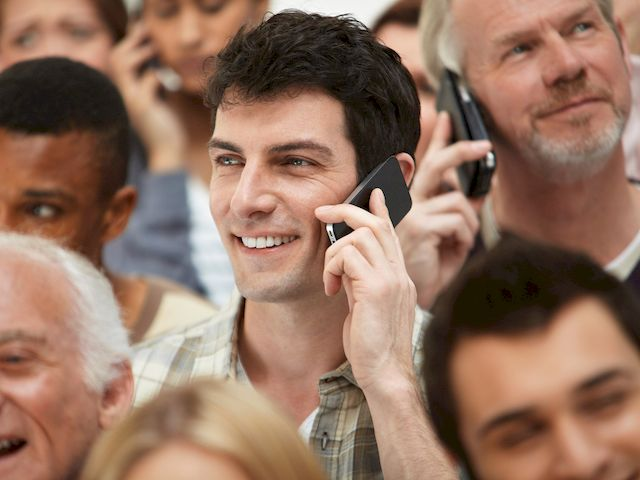phone: (430, 82, 502, 192), (338, 158, 410, 259)
talk: (206, 128, 422, 379), (417, 5, 635, 199)
